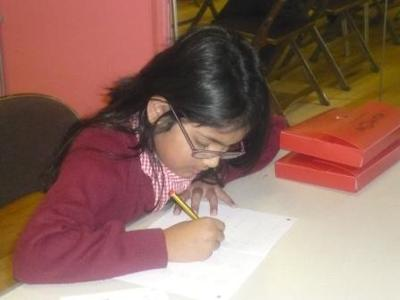person: (13, 27, 290, 285)
